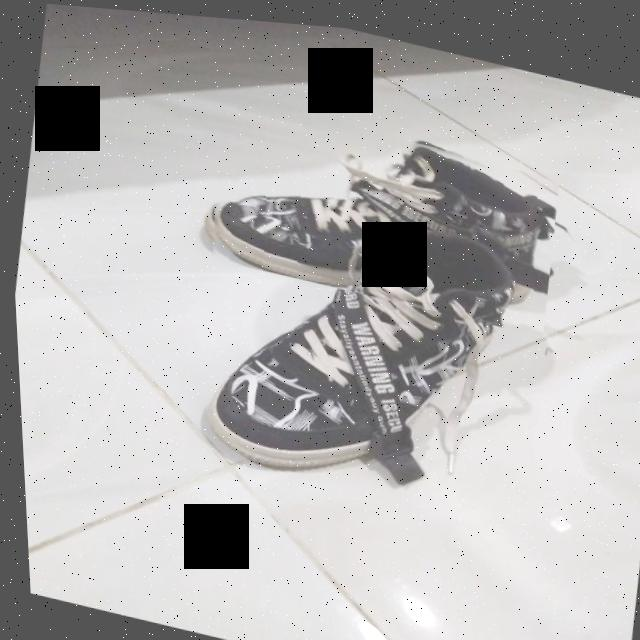shoe: (184, 168, 565, 521), (192, 85, 566, 330)
